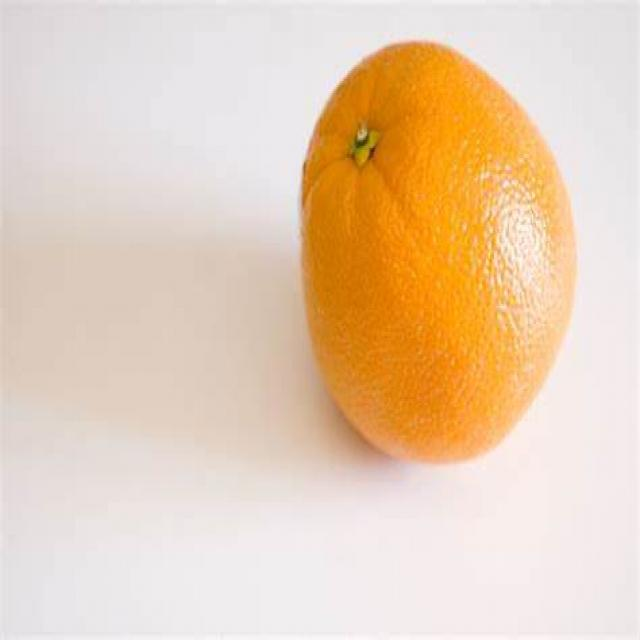Orange: (298, 42, 580, 467)
